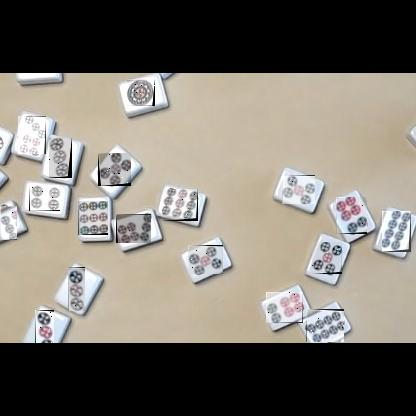1p: (127, 79, 155, 106)
3p: (49, 138, 72, 178), (68, 267, 85, 311), (35, 310, 54, 343)
4p: (29, 185, 60, 211)
5p: (98, 153, 131, 186), (188, 245, 223, 274), (312, 242, 342, 274), (282, 175, 315, 204)
6p: (336, 197, 367, 234), (266, 292, 303, 323)
7p: (18, 116, 46, 154), (116, 214, 151, 243)
8p: (306, 309, 344, 342), (382, 211, 411, 252)
9p: (163, 189, 198, 221), (78, 201, 108, 235), (0, 206, 17, 240)
